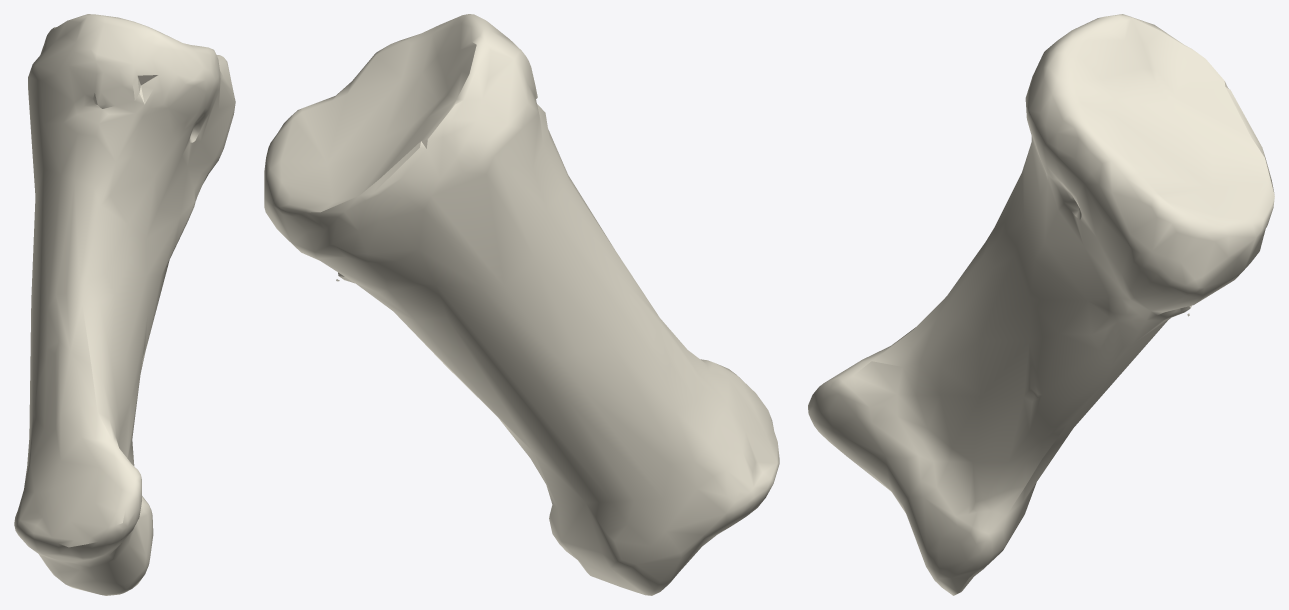
File: fma24450.glb
3 renders of one model, left to right at view 1: azimuth 30°, elevation 25°; view 2: azimuth 150°, elevation 25°; view 3: azimuth 270°, elevation 25°, orthographic. The views are drawn at different scales.
Visible parts, largest first — view 1: FMA24450; view 2: FMA24450; view 3: FMA24450.
Boxes of the visible parts, x1,y1,x2,y2 form: FMA24450: (14,14,235,595); FMA24450: (264,14,779,595); FMA24450: (808,14,1274,595).
Bounding box in the file's own units: 0.0203 × 0.0319 × 0.0225.
